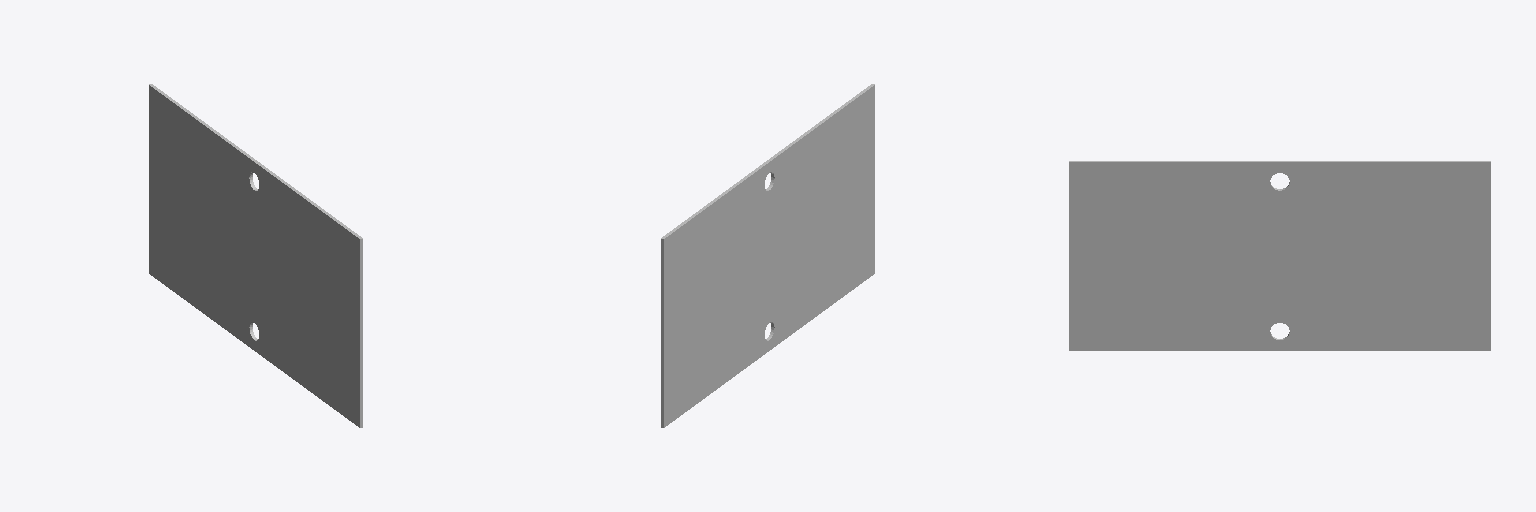
Rendered from ground.obj.
3 views of the same model, side by side, from view 1: azimuth 30°, elevation 25°; view 2: azimuth 150°, elevation 25°; view 3: azimuth 270°, elevation 25° (orthographic).
Parts seen in each view (by area): view 1: MeshBody2.002; view 2: MeshBody2.002; view 3: MeshBody2.002.
Part boxes in pixels (x1,y1,x2,y2): MeshBody2.002: (149, 84, 362, 427); MeshBody2.002: (661, 84, 874, 427); MeshBody2.002: (1069, 161, 1490, 350).
Bounding box in the file's own units: 0.005 × 0.2713 × 0.5496.